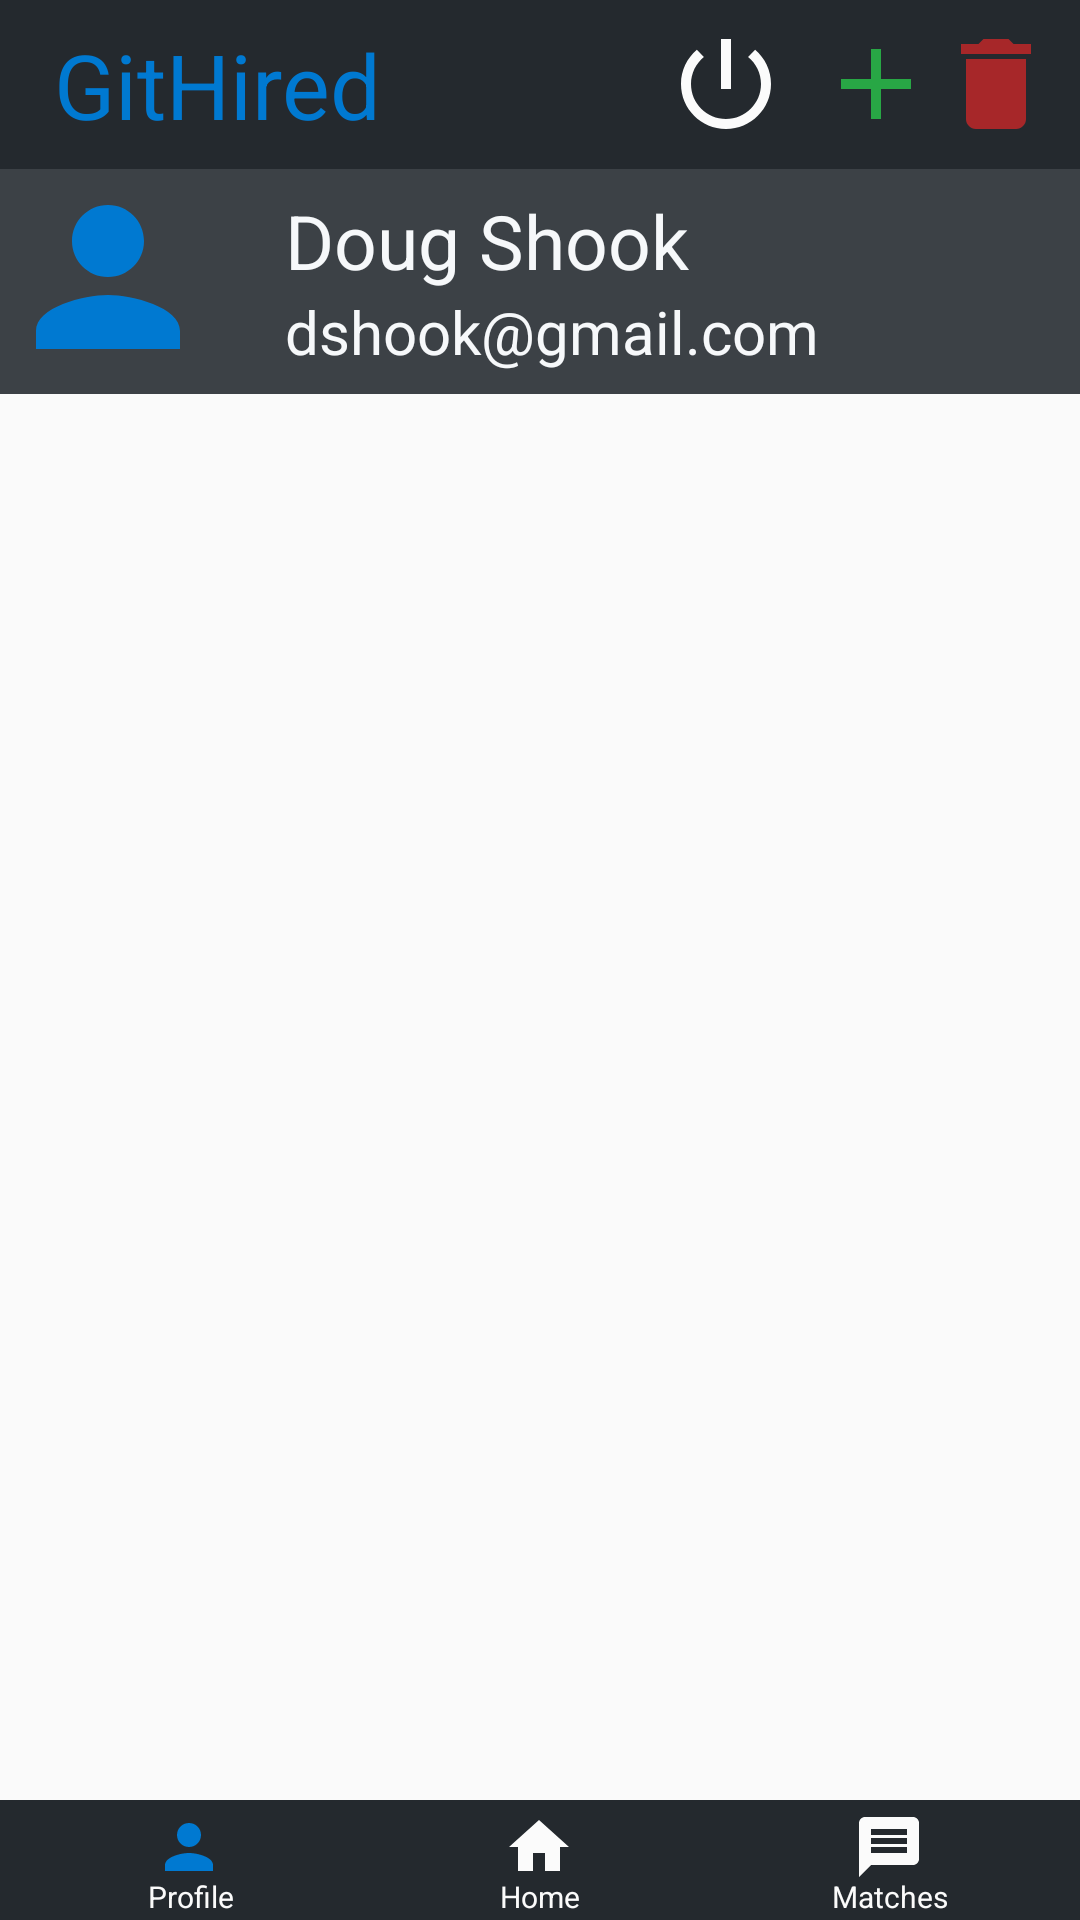

Where to tap for icons on this 1080px×1920px app screen, as point (x, y):
messagewhite: point (889, 1847)
powerwhite: point (726, 84)
